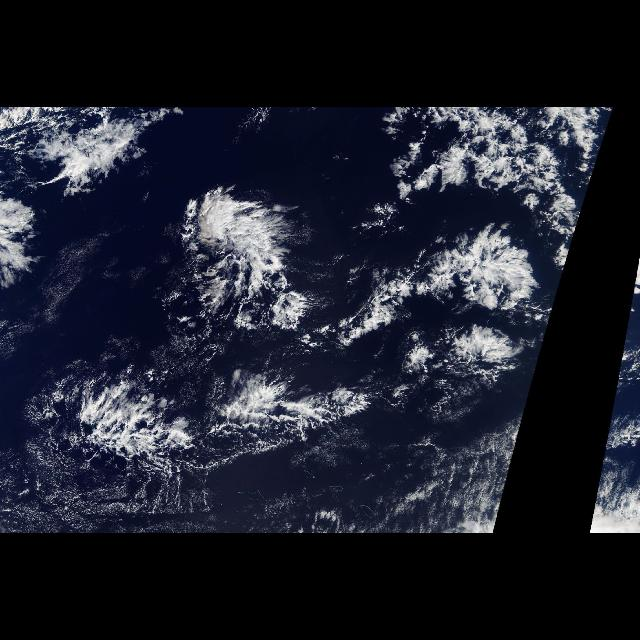Fish: (27, 108, 609, 502), (599, 426, 609, 482)
Sugar: (286, 415, 524, 531), (589, 415, 639, 531)
